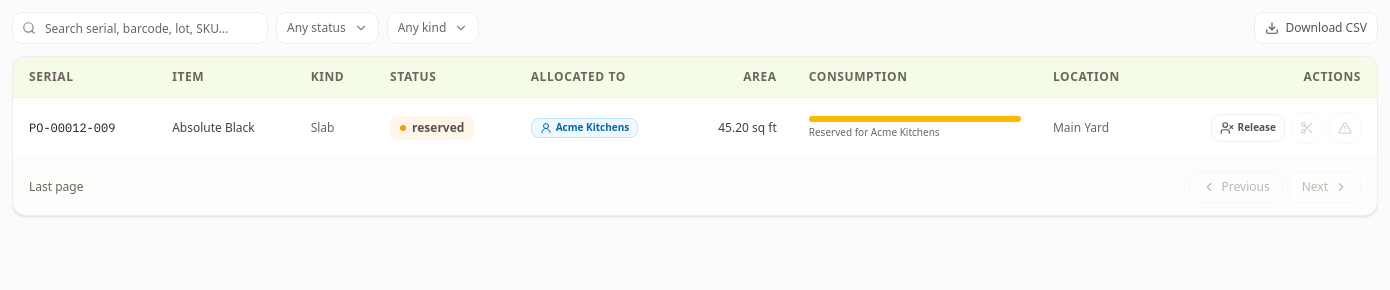
Scenario: UnitTable — received slabs and customer reservations › releases a customer reservation
This screenshot has width=1390, height=290.
Click the button with aria-label "Release reservation on PO-00012-009".
click(1248, 128)  # box left=1211, top=114, right=1285, bottom=142
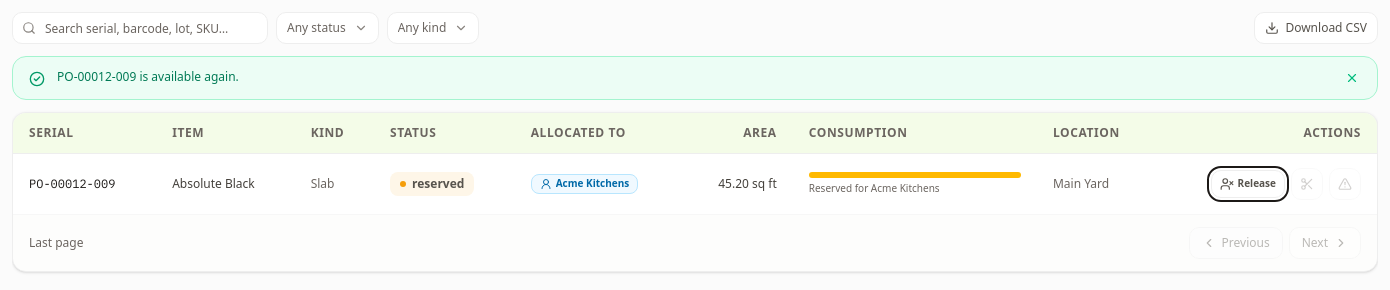
Now the text "PO-00012-009 is available again." is shown, box left=57, top=68, right=239, bottom=85
